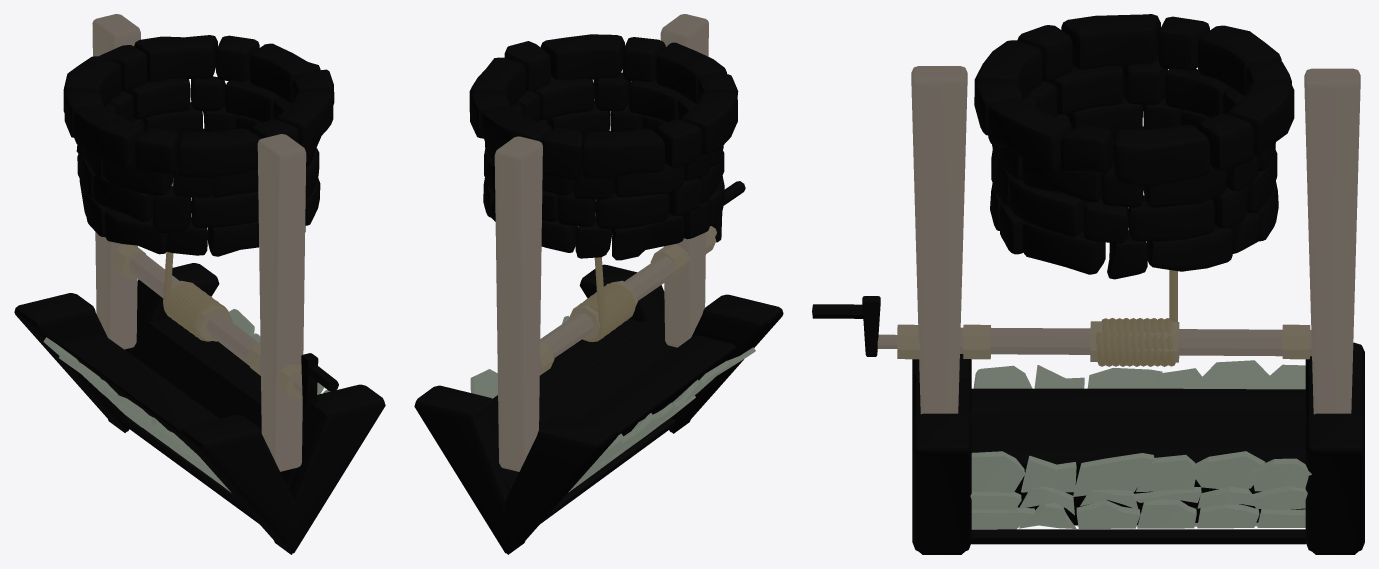
File: Well.FBX
3 renders of one model, left to right at view 1: azimuth 30°, elevation 25°; view 2: azimuth 150°, elevation 25°; view 3: azimuth 270°, elevation 25°, orthographic. The views are drawn at different scales.
Visible parts, largest first — view 1: Well; view 2: Well; view 3: Well.
Part boxes in pixels (x1,y1,x2,y2): Well: (14, 14, 385, 554); Well: (414, 14, 783, 554); Well: (812, 14, 1364, 554).
Size of the model in its own units: 7.91 by 13.15 by 13.68.
